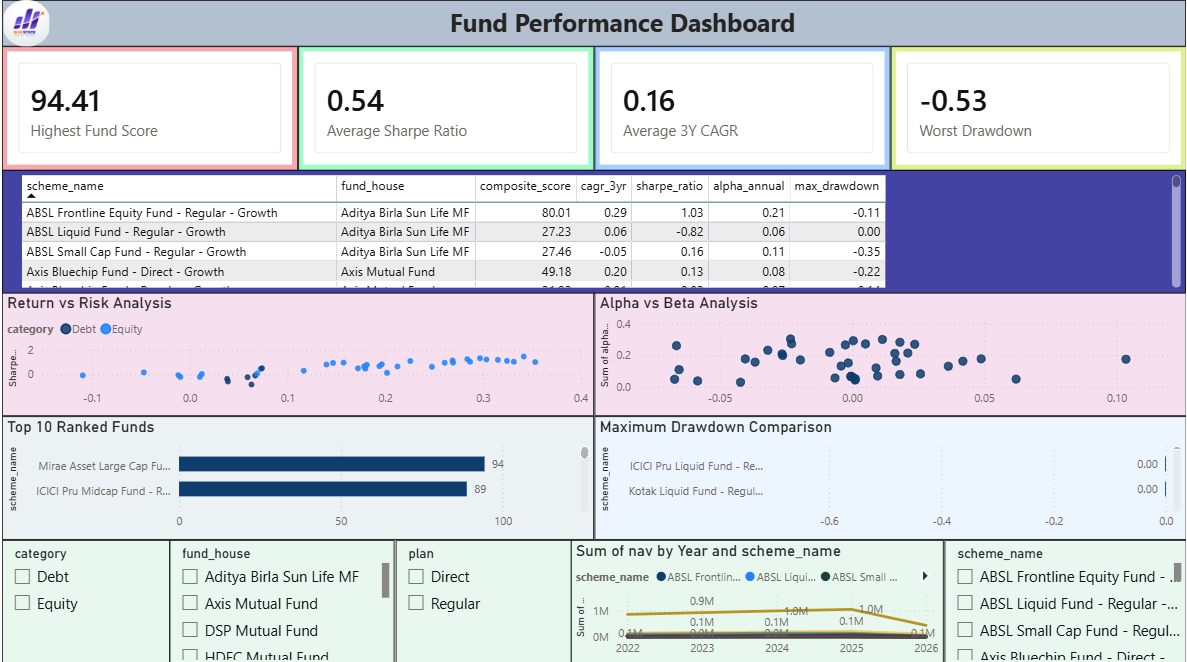

The page's visual inventory and layout, read from the dashboard file:
{"tool":"powerbi","page":{"name":"Fund Performance","canvas":[1280,720],"ordinal":1},"visuals":[{"type":"textbox","box":[0,0,1280.3,50],"z":0},{"type":"cardVisual","fields":{"Data":["Max(fund_scorecard.composite_score)"]},"box":[0,50,320.1,134],"z":1000},{"type":"cardVisual","fields":{"Data":["Avg(fund_scorecard.sharpe_ratio)"]},"box":[320.1,50,320.1,134],"z":2000},{"type":"cardVisual","fields":{"Data":["Avg(fund_scorecard.cagr_3yr)"]},"box":[640.2,50,320.1,134],"z":3000},{"type":"cardVisual","fields":{"Data":["Min(fund_scorecard.max_drawdown)"]},"box":[960.3,50,320.1,134],"z":4000},{"type":"tableEx","fields":{"Values":["01_fund_master.scheme_name","01_fund_master.fund_house","Sum(fund_scorecard.composite_score)","Sum(fund_scorecard.cagr_3yr)","Sum(fund_scorecard.sharpe_ratio)","Sum(fund_scorecard.alpha_annual)","Sum(fund_scorecard.max_drawdown)"]},"box":[0,183.4,1280.3,133.4],"z":5000},{"type":"scatterChart","title":"Return vs Risk Analysis","fields":{"X":["Sum(fund_scorecard.cagr_3yr)"],"Y":["Sum(fund_scorecard.sharpe_ratio)"],"Category":["01_fund_master.scheme_name"],"Series":["01_fund_master.category"],"Size":["Sum(03_aum_by_fund_house.aum_crore)"]},"box":[0,316.8,640.2,133.4],"z":6000},{"type":"scatterChart","title":"Alpha vs Beta Analysis","fields":{"X":["Sum(fund_scorecard.beta)"],"Y":["Sum(fund_scorecard.alpha_annual)"],"Category":["01_fund_master.scheme_name"],"Size":["Sum(03_aum_by_fund_house.aum_crore)"]},"box":[640.2,316.8,640.2,133.4],"z":7000},{"type":"clusteredBarChart","title":"Top 10 Ranked Funds","fields":{"Y":["Sum(fund_scorecard.composite_score)"],"Category":["01_fund_master.scheme_name"]},"box":[0,450.1,640.2,133.4],"z":8000},{"type":"barChart","title":"Maximum Drawdown Comparison","fields":{"Category":["01_fund_master.scheme_name"],"Y":["Sum(fund_scorecard.max_drawdown)"]},"box":[640.2,450.1,640.2,133.4],"z":9000},{"type":"slicer","fields":{"Values":["01_fund_master.fund_house"]},"box":[181.7,583.5,243.4,136.7],"z":10000},{"type":"slicer","fields":{"Values":["01_fund_master.category"]},"box":[0,583.5,181.7,136.7],"z":11000},{"type":"slicer","fields":{"Values":["01_fund_master.plan"]},"box":[425.1,583.5,190.1,136.7],"z":12000},{"type":"lineChart","fields":{"Category":["clean_nav.date.Variation.Date Hierarchy.Year","clean_nav.date.Variation.Date Hierarchy.Quarter","clean_nav.date.Variation.Date Hierarchy.Month","clean_nav.date.Variation.Date Hierarchy.Day"],"Y":["Sum(clean_nav.nav)"],"Series":["01_fund_master.scheme_name"]},"box":[615.2,583.5,403.4,136.7],"z":13000},{"type":"slicer","fields":{"Values":["01_fund_master.scheme_name"]},"box":[1018.6,583.5,261.7,136.7],"z":14000},{"type":"image","box":[0,0,52.9,50],"z":15000}]}

Visuals, with their boxes in screenshot pixels (x1, y1, x2, y2), scaled from the page's 1280x720 canvas onto the 1187x662 screenshot:
textbox: bbox=[0, 0, 1186, 46]
cardVisual - Max(fund_scorecard.composite_score): bbox=[0, 46, 297, 169]
cardVisual - Avg(fund_scorecard.sharpe_ratio): bbox=[297, 46, 594, 169]
cardVisual - Avg(fund_scorecard.cagr_3yr): bbox=[594, 46, 891, 169]
cardVisual - Min(fund_scorecard.max_drawdown): bbox=[891, 46, 1186, 169]
tableEx - 01_fund_master.scheme_name x 01_fund_master.fund_house: bbox=[0, 169, 1186, 291]
"Return vs Risk Analysis" scatterChart: bbox=[0, 291, 594, 414]
"Alpha vs Beta Analysis" scatterChart: bbox=[594, 291, 1186, 414]
"Top 10 Ranked Funds" clusteredBarChart: bbox=[0, 414, 594, 536]
"Maximum Drawdown Comparison" barChart: bbox=[594, 414, 1186, 536]
slicer - 01_fund_master.fund_house: bbox=[168, 536, 394, 661]
slicer - 01_fund_master.category: bbox=[0, 536, 168, 661]
slicer - 01_fund_master.plan: bbox=[394, 536, 571, 661]
lineChart - clean_nav.date.Variation.Date Hierarchy.Year x clean_nav.date.Variation.Date Hierarchy.Quarter: bbox=[571, 536, 945, 661]
slicer - 01_fund_master.scheme_name: bbox=[945, 536, 1186, 661]
image: bbox=[0, 0, 49, 46]
